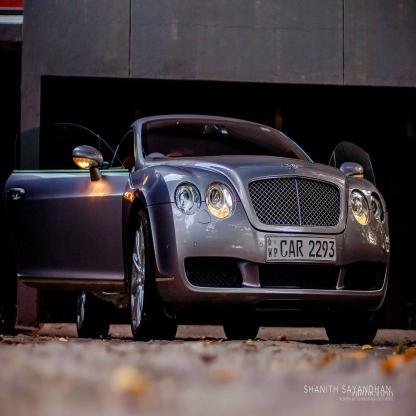car front: (1, 101, 392, 354)
number plate: (264, 230, 336, 264)
